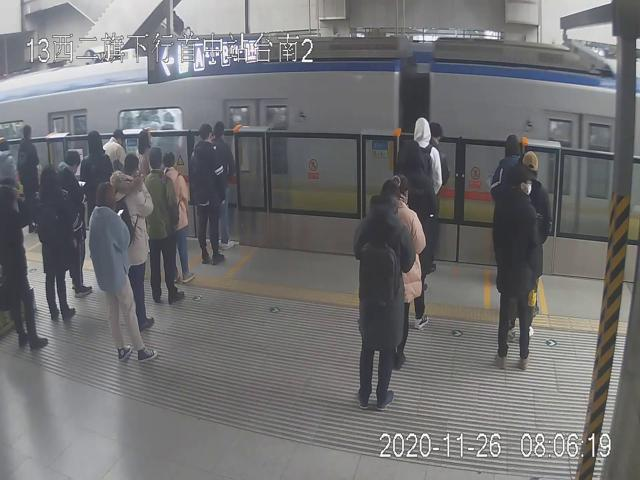person: (352, 180, 415, 405), (88, 181, 159, 364), (493, 168, 544, 368), (111, 155, 157, 332), (144, 147, 186, 305), (37, 164, 79, 321), (56, 148, 94, 298), (190, 124, 225, 267), (163, 149, 195, 284)
